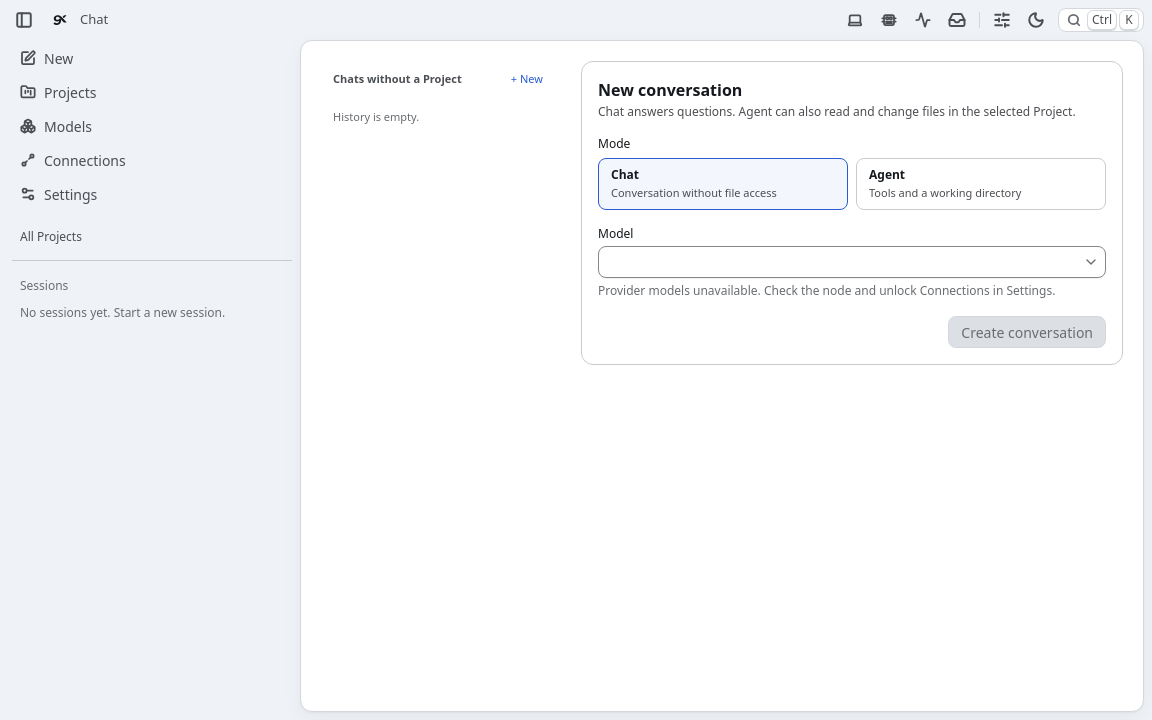
Test case: mounted product shell › starts with defaults when shell preferences are corrupt or denied
Click the button named "Navigation sidebar".
click(24, 20)  # box [8,4,40,36]
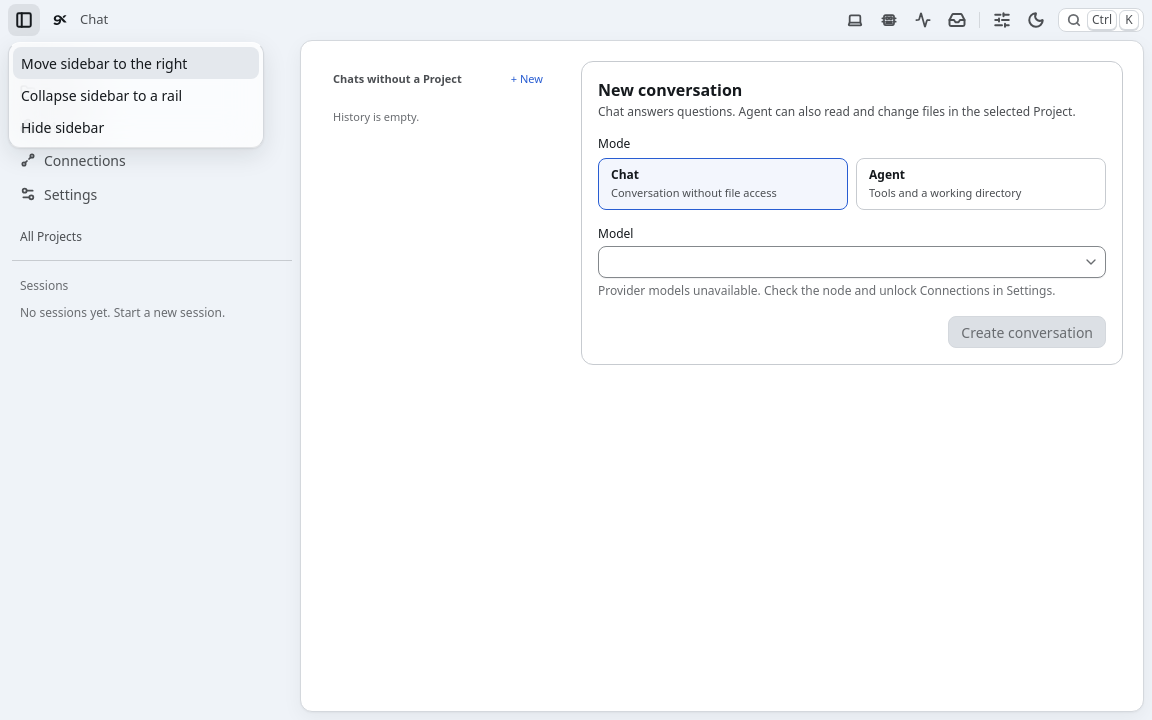
Click the menu item "Hide sidebar".
click(63, 127)  # box [21,118,104,136]
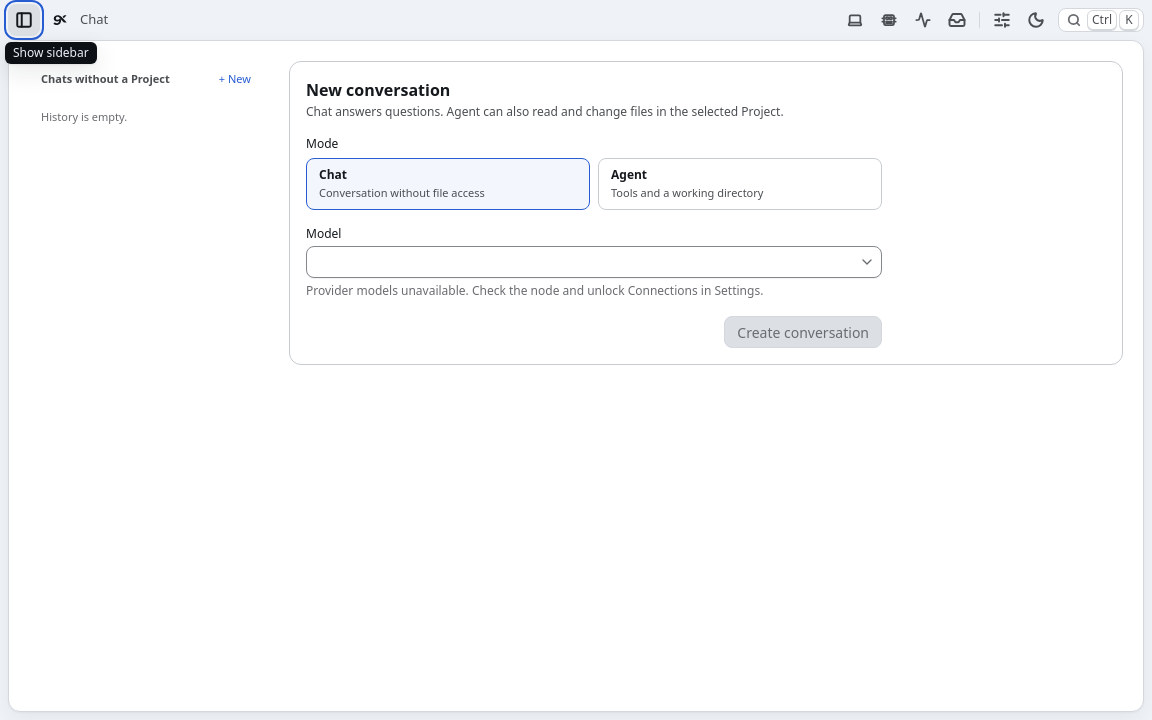
Check: the menu is gone
Check: the button named "Show sidebar" is shown, box [8,4,40,36]
